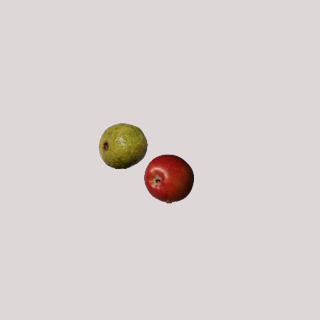Apple Braeburn: (143, 153, 193, 203)
Guava: (97, 120, 147, 170)
